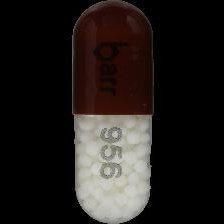54868-5388: (0, 0, 224, 224)
